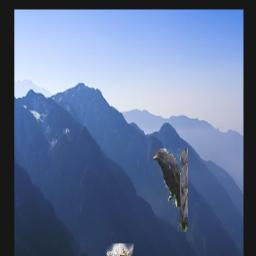Crow: (154, 150, 189, 233)
Sparrow: (107, 243, 133, 256)
